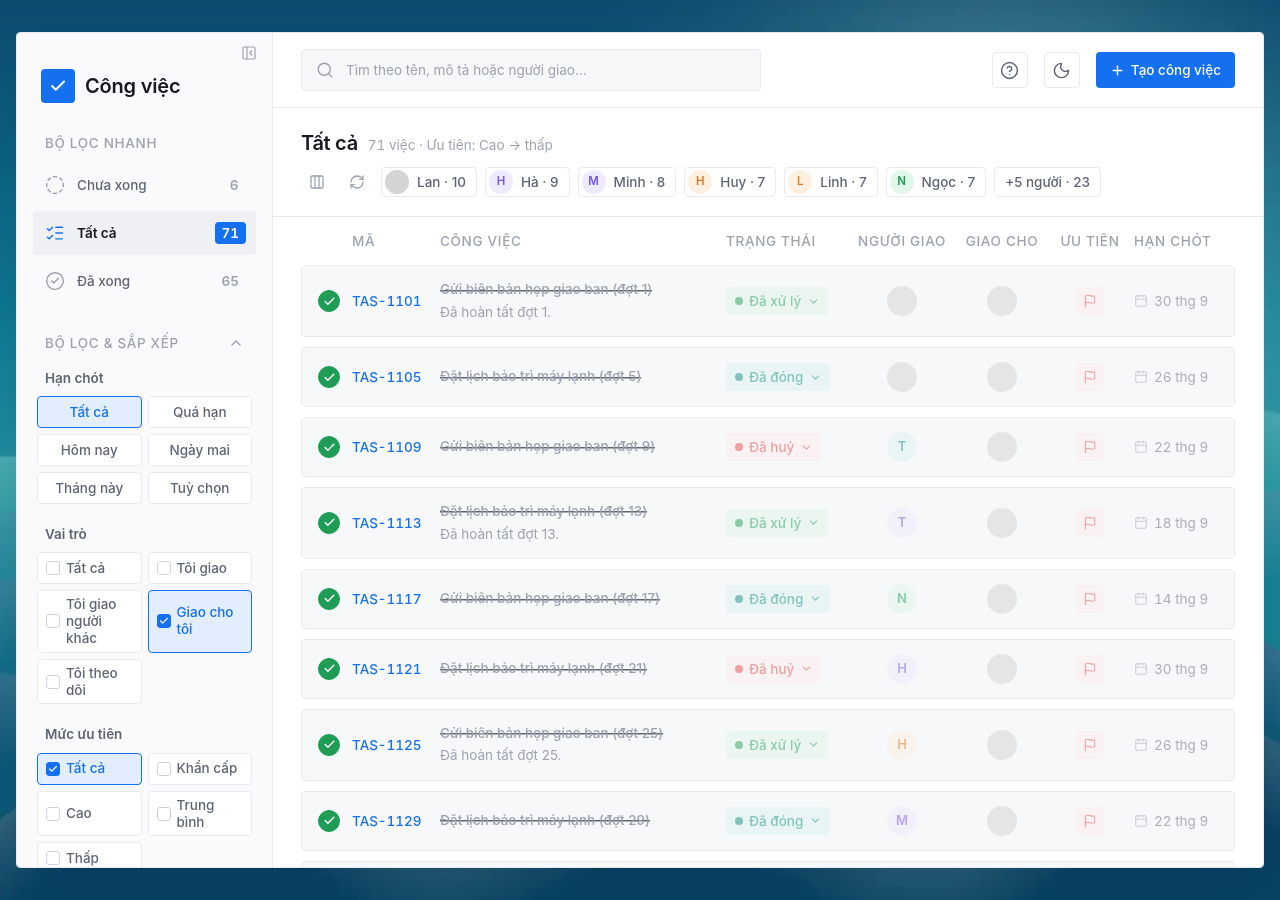
Test: Vai trò: multi-select roles (AC3, AC5) › reloads the done pages for the new roles (keeping open tasks) when roles change
This screenshot has width=1280, height=900.
Click the checkbox with test id "role-filter-cc" at (89, 682), box [37,659,142,704]
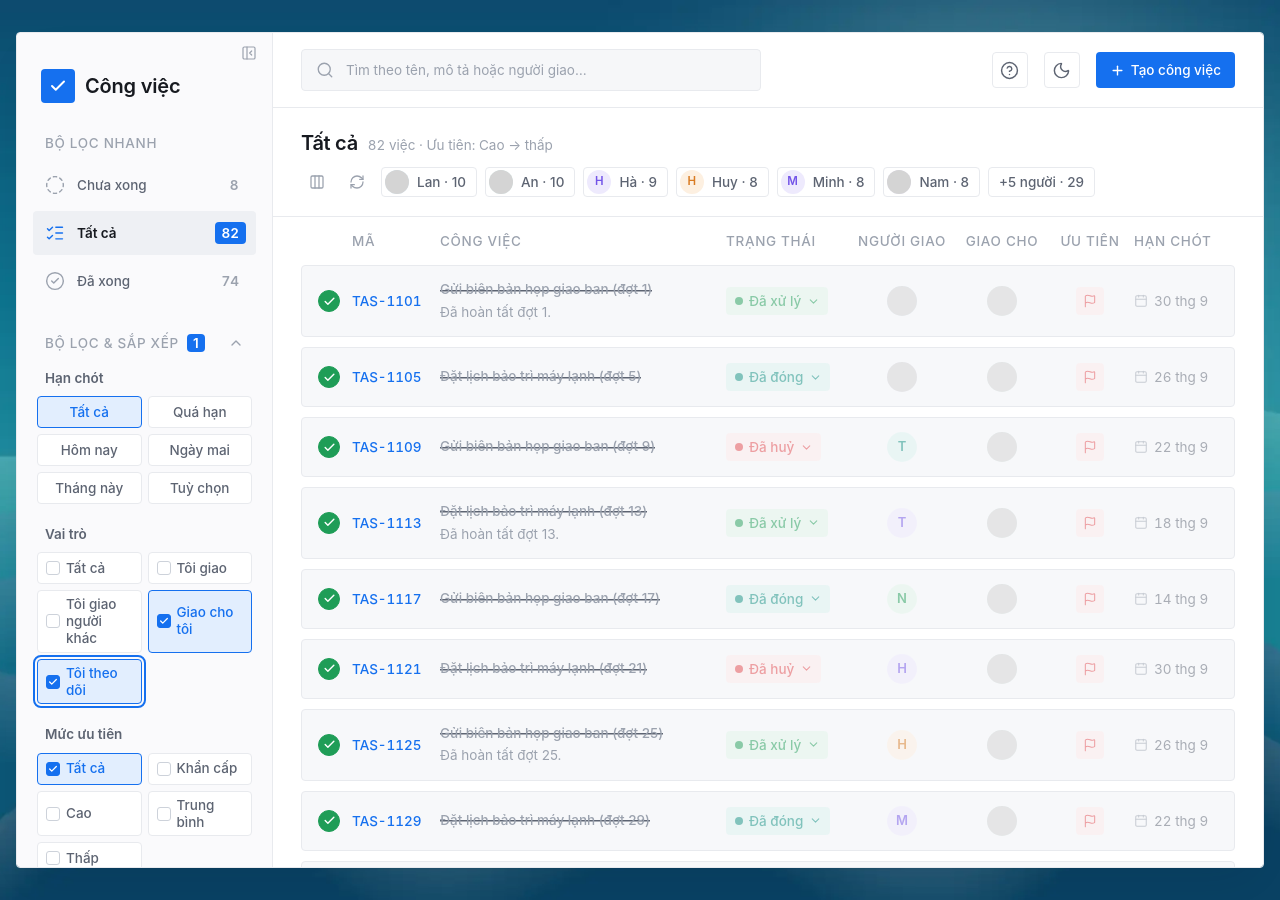
expect the text with test id "count-all" reads "82": met, box [222,225,239,241]
